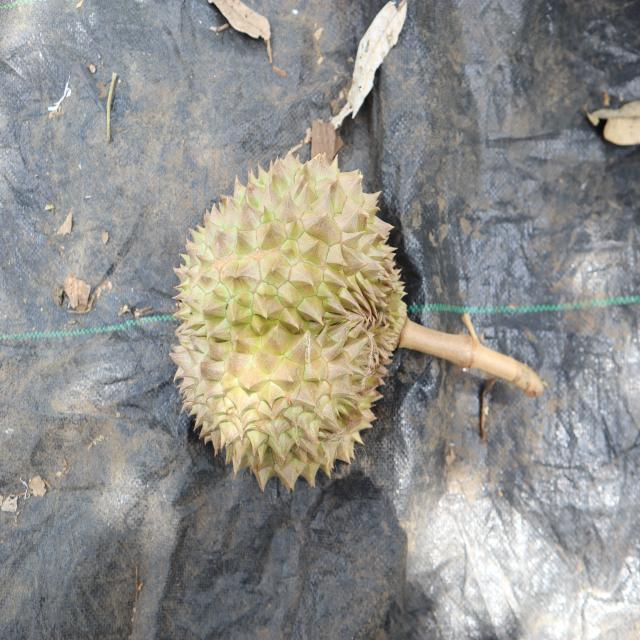mature: (172, 150, 411, 495)
